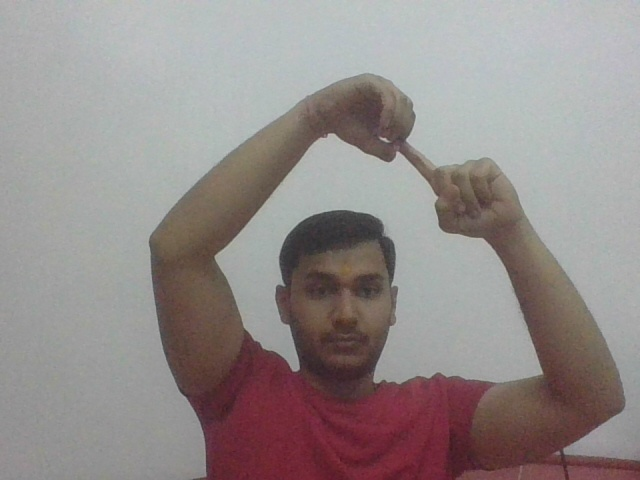Q: (345, 68, 511, 203)
